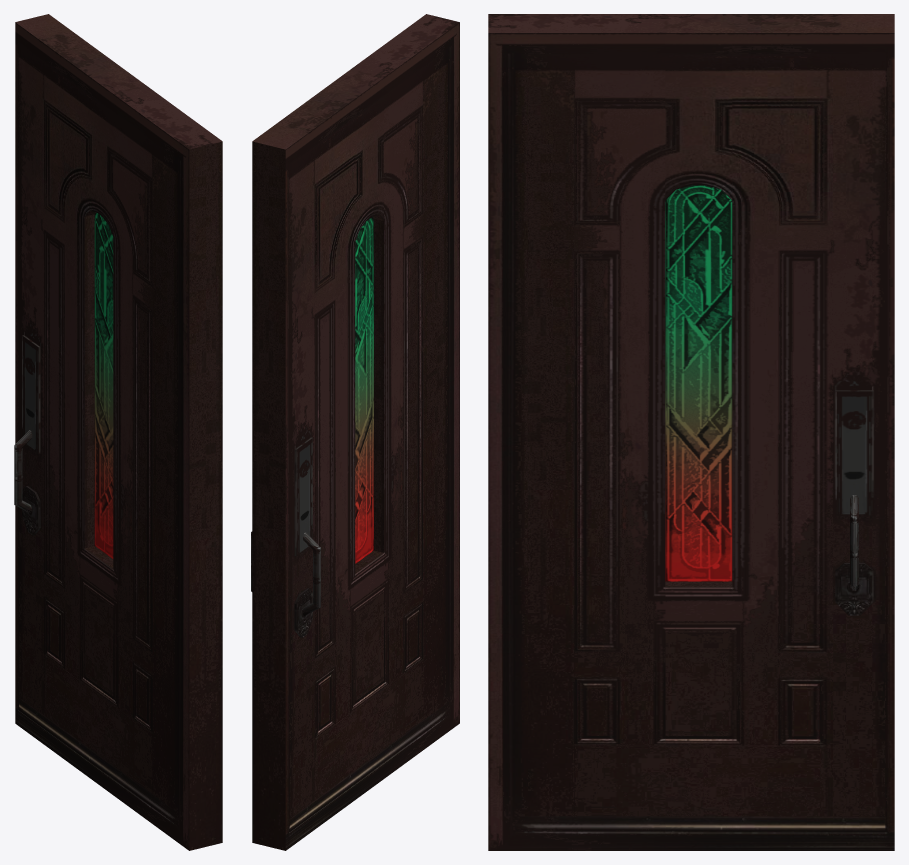
File: door_m2joined.fbx
3 renders of one model, left to right at view 1: azimuth 30°, elevation 25°; view 2: azimuth 150°, elevation 25°; view 3: azimuth 270°, elevation 25°, orthographic. The views are drawn at different scales.
Parts seen in each view (by area): view 1: DoorFront, DoorGlass, DoorHandle; view 2: DoorFront, DoorGlass, DoorHandle; view 3: DoorFront, DoorGlass, DoorHandle.
Boxes of the visible parts, x1,y1,x2,y2 form: DoorFront: (15, 14, 222, 850); DoorGlass: (94, 212, 113, 558); DoorHandle: (14, 335, 40, 535); DoorFront: (252, 14, 459, 850); DoorGlass: (355, 217, 373, 563); DoorHandle: (251, 437, 320, 637); DoorFront: (488, 14, 894, 850); DoorGlass: (665, 185, 732, 581); DoorHandle: (835, 390, 873, 615).
Bounding box in the file's own units: 1.8 × 0.4096 × 4.
